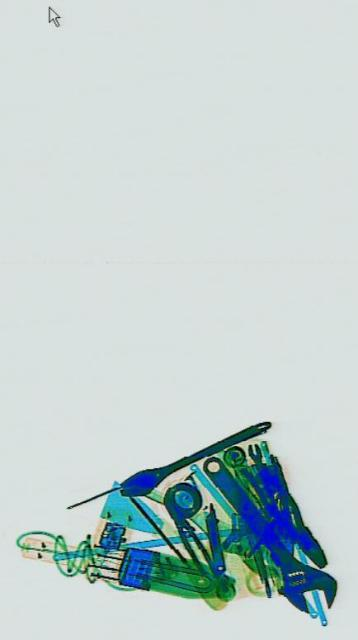Pliers: (234, 442, 331, 578), (162, 492, 216, 586)
Wrench: (191, 430, 338, 638), (117, 405, 270, 505), (244, 436, 273, 502)
